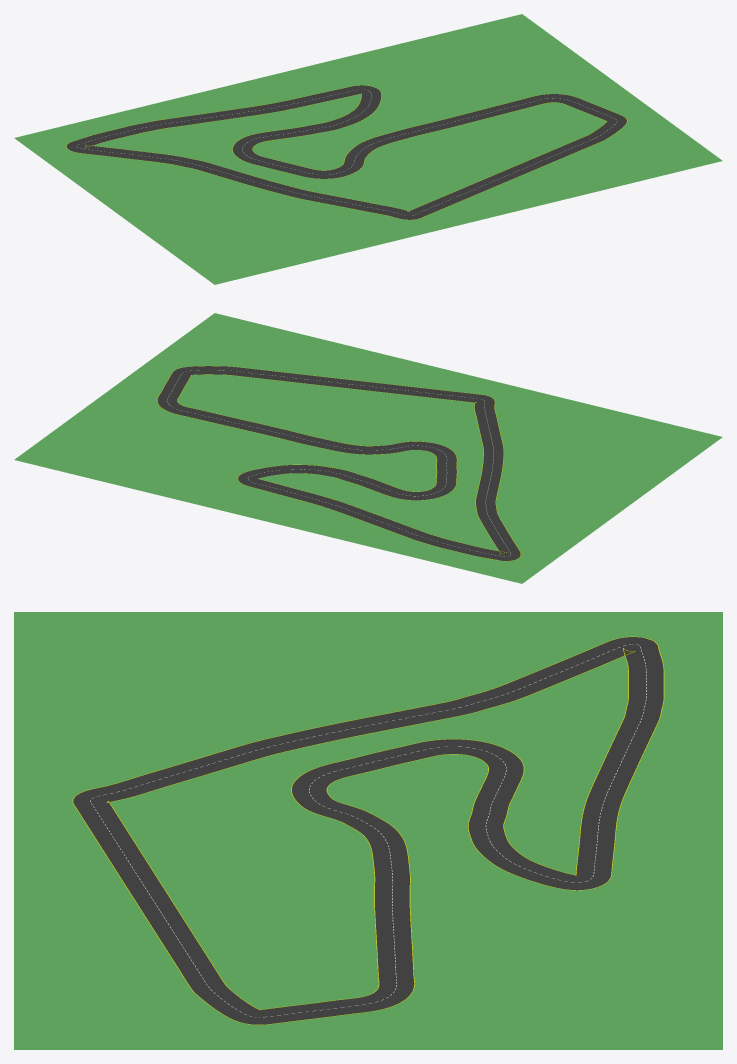
File: unknown.dae
The picture shows the model from 3 angles, top to bottom: view 1: azimuth 30°, elevation 25°; view 2: azimuth 150°, elevation 25°; view 3: azimuth 270°, elevation 25°; orthographic projection. The views are drawn at different scales.
Parts seen in each view (by area): view 1: Ground, Track_Road, Lane_Right, Lane_Left; view 2: Ground, Track_Road, Lane_Right, Lane_Left; view 3: Ground, Track_Road, Lane_Right, Lane_Left, Lane_Center.
Boxes of the visible parts, box(x1,y1,x2,y2) form: Ground: box(14, 14, 722, 284); Track_Road: box(66, 85, 626, 219); Lane_Right: box(66, 85, 627, 219); Lane_Left: box(84, 93, 606, 211); Ground: box(14, 313, 722, 583); Track_Road: box(157, 366, 520, 561); Lane_Right: box(157, 366, 520, 561); Lane_Left: box(177, 374, 506, 554); Ground: box(14, 612, 722, 1049); Track_Road: box(73, 637, 663, 1024); Lane_Right: box(72, 636, 664, 1024); Lane_Left: box(107, 648, 635, 1010); Lane_Center: box(90, 644, 646, 1017).
Size of the model in its own units: 352 by 241 by 0.07.
